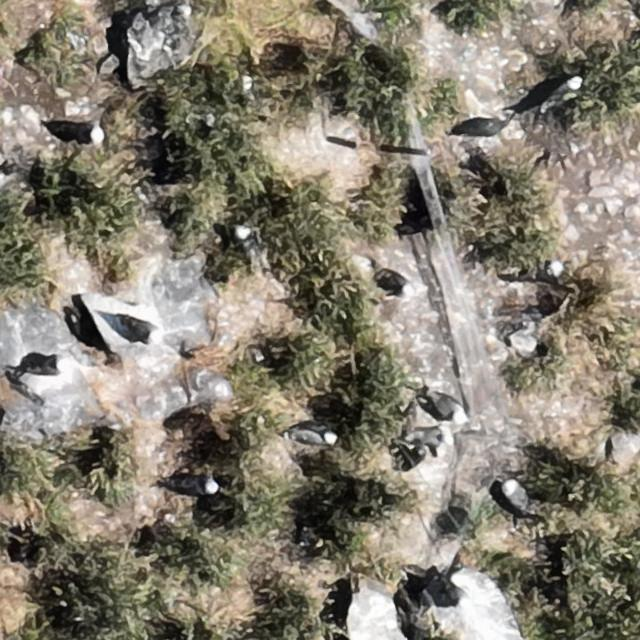umineko: (424, 394, 467, 424), (18, 355, 72, 378), (236, 226, 269, 262), (409, 425, 454, 451), (121, 318, 162, 344), (548, 75, 583, 104), (522, 259, 564, 283), (443, 584, 471, 612), (220, 77, 254, 100), (290, 429, 330, 446), (504, 482, 528, 509), (380, 273, 408, 293), (85, 124, 103, 146), (197, 478, 219, 495)
